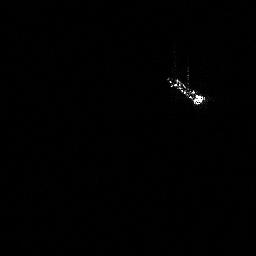ship: (163, 72, 208, 108)
